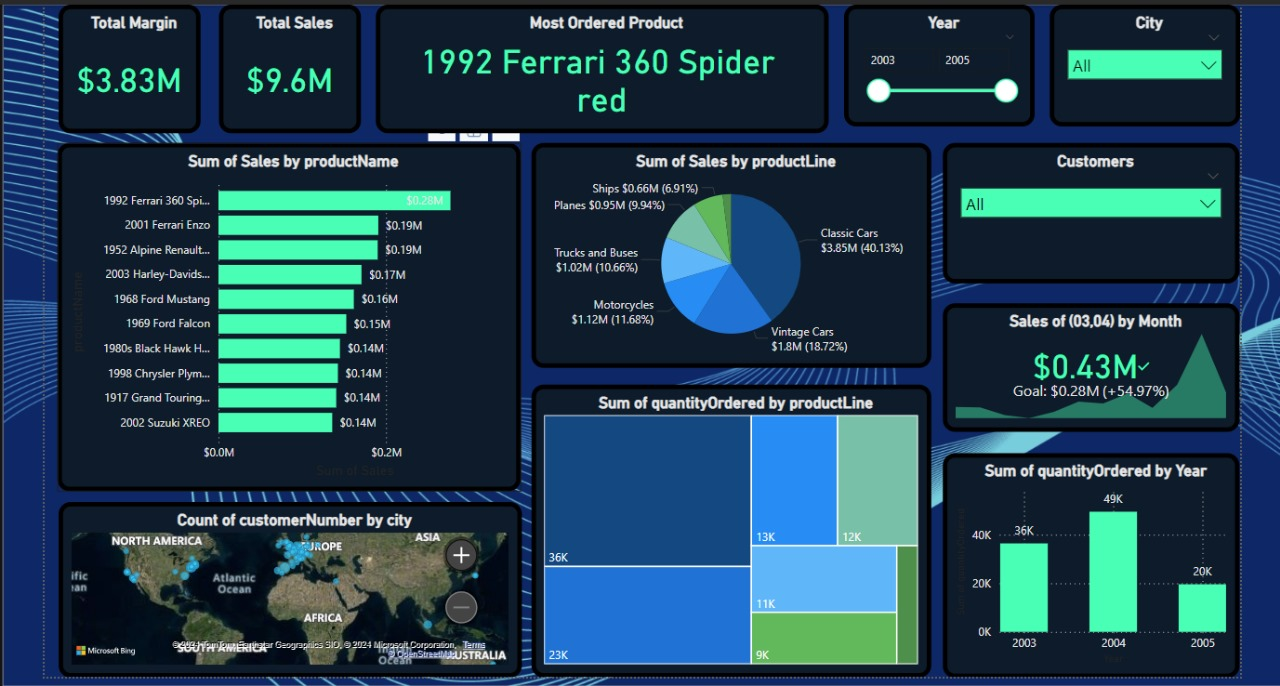

The dashboard page shown, as its layout file describes it:
{"tool":"powerbi","page":{"name":"Page 1","canvas":[1280,720],"ordinal":0},"visuals":[{"type":"barChart","fields":{"Category":["Products.productName"],"Y":["Sum(Order Details.Sales)"]},"box":[14.3,148.6,495.7,372.9],"z":0},{"type":"card","title":"Total Margin","fields":{"Values":["Sum(Order Details.Margin)"]},"box":[14.7,0,152.1,137.4],"z":1000},{"type":"card","title":"Most Ordered Product","fields":{"Values":["OrderDetails.Most Ordered Product"]},"box":[354.6,0,484.7,137.4],"z":2000},{"type":"slicer","title":"Year","fields":{"Values":["Orders.Year"]},"box":[856.4,0,203.7,130.1],"z":3000},{"type":"kpi","title":"Sales of (03,04) by Month ","fields":{"Goal":["Orders.year_2003"],"TrendLine":["Orders.Month Name"],"Indicator":["Orders.year_2004"]},"box":[962,320.2,317.8,137.4],"z":4000},{"type":"columnChart","fields":{"Category":["Orders.Year"],"Y":["Sum(OrderDetails.quantityOrdered)"]},"box":[962,479.8,317.8,240.5],"z":5000},{"type":"pieChart","fields":{"Y":["Sum(OrderDetails.Sales)"],"Category":["ProductLines.productLine"]},"box":[521.5,148.5,428.2,240.5],"z":6000},{"type":"treemap","fields":{"Group":["ProductLines.productLine"],"Values":["Sum(OrderDetails.quantityOrdered)"]},"box":[521.2,406.8,427.9,313.5],"z":7000},{"type":"map","fields":{"Category":["Customers.city"],"Size":["CountNonNull(Customers.customerNumber)"]},"box":[14.7,532.5,495.7,187.7],"z":8000},{"type":"card","title":"Total Sales","fields":{"Values":["Sum(OrderDetails.Sales)"]},"box":[186.5,0,152.1,137.4],"z":9000},{"type":"slicer","title":"City","fields":{"Values":["Customers.city"]},"box":[1076.1,0,203.7,130.1],"z":10000},{"type":"slicer","title":"Customers","fields":{"Values":["Customers.customerName"]},"box":[961.6,148,317.2,150.5],"z":11000}]}

Visuals, with their boxes on the page's 1280x720 design canvas (x1, y1, x2, y2). These are canvas units, not pixel positions in the 1280x686 screenshot, which may show the page scaled, cropped or inside an application window:
barChart - Products.productName x Sum(Order Details.Sales): bbox=(14, 149, 510, 522)
"Total Margin" card: bbox=(15, 0, 167, 137)
"Most Ordered Product" card: bbox=(355, 0, 839, 137)
"Year" slicer: bbox=(856, 0, 1060, 130)
"Sales of (03,04) by Month " kpi: bbox=(962, 320, 1280, 458)
columnChart - Orders.Year x Sum(OrderDetails.quantityOrdered): bbox=(962, 480, 1280, 720)
pieChart - Sum(OrderDetails.Sales) x ProductLines.productLine: bbox=(522, 148, 950, 389)
treemap - ProductLines.productLine x Sum(OrderDetails.quantityOrdered): bbox=(521, 407, 949, 720)
map - Customers.city x CountNonNull(Customers.customerNumber): bbox=(15, 532, 510, 720)
"Total Sales" card: bbox=(186, 0, 339, 137)
"City" slicer: bbox=(1076, 0, 1280, 130)
"Customers" slicer: bbox=(962, 148, 1279, 298)
